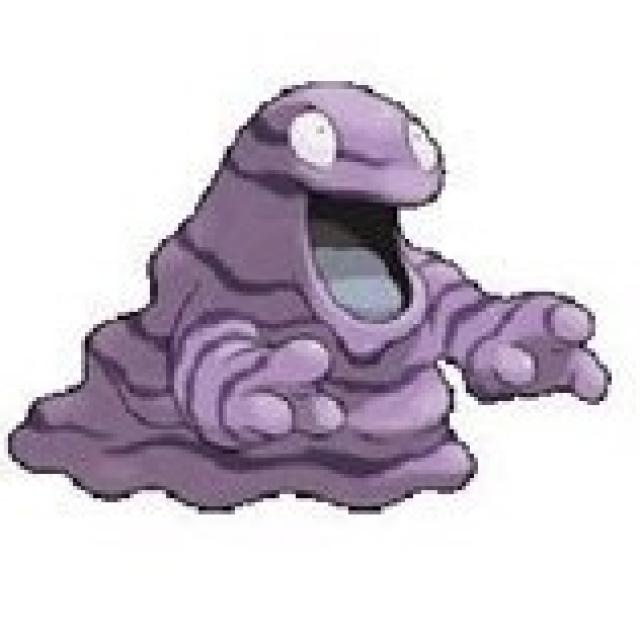Grimer: (135, 81, 578, 483)
